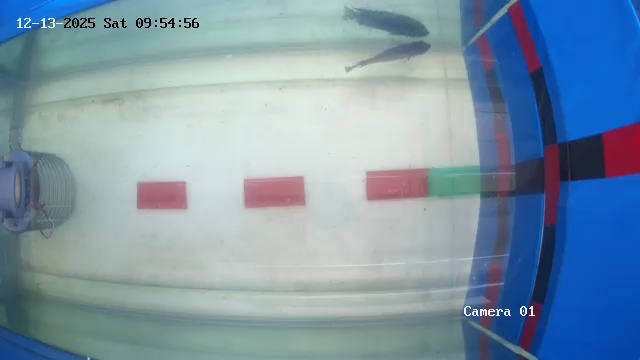fish: (339, 40, 444, 82)
